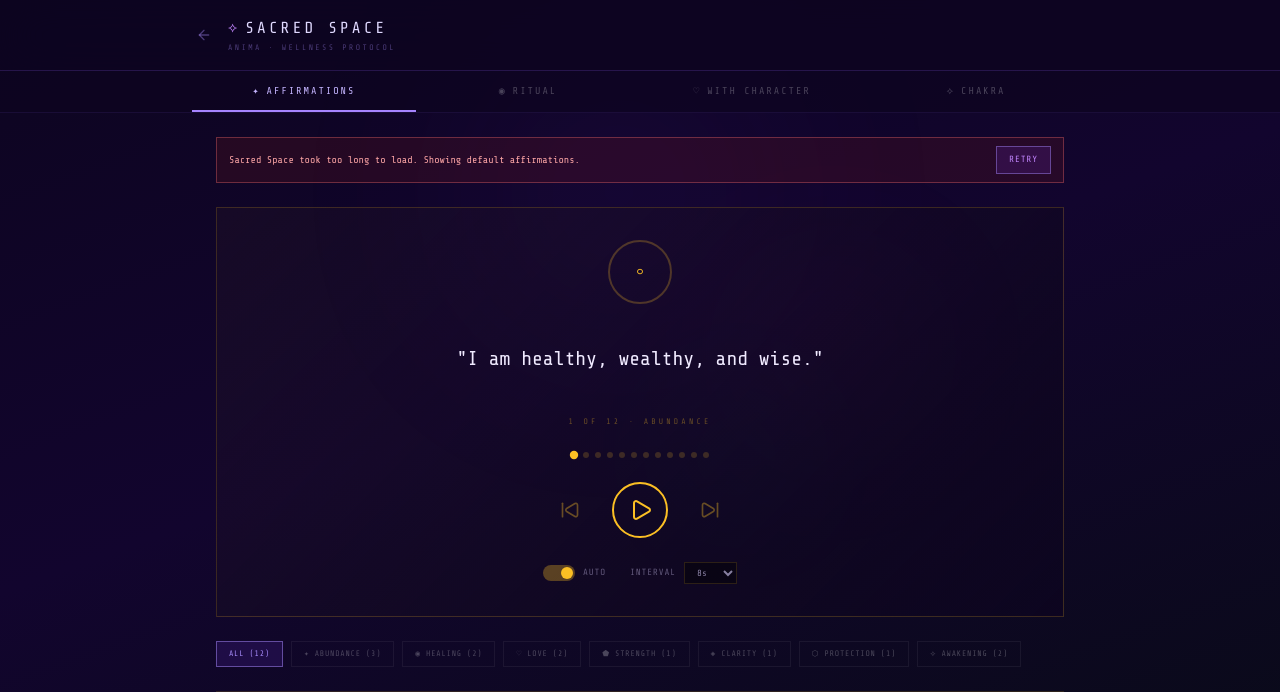
Test: Meditation affirmations › retries Sacred Space after a timeout instead of leaving sticky defaults
Check: the message reads "Sacred Space took too long to load. Showing default affirmations.", box [229,154,580,165]
Click the button "Retry": (1024, 160) [996,146,1051,174]
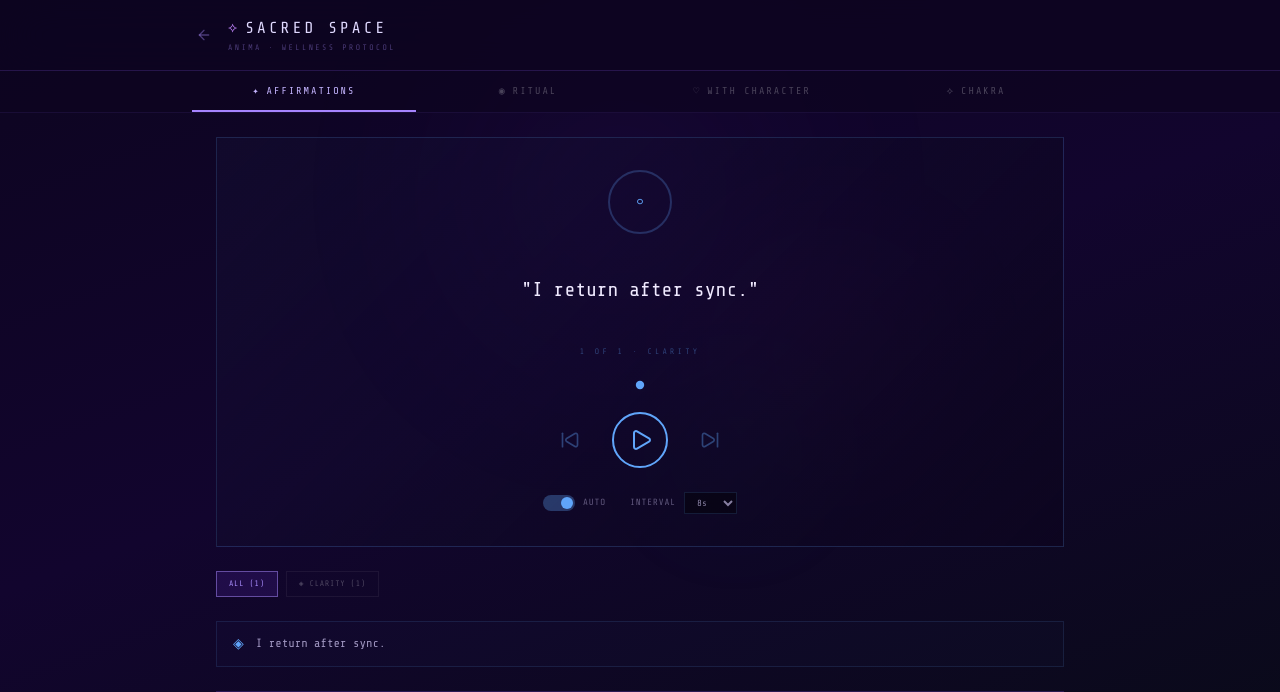
Check: the text "I return after sync." is shown, box [256,636,385,650]
Check: the message "Sacred Space took too long to load. Showing default affirmations." is gone
Check: the text "Sacred Space took too long to load. Showing default affirmations." is gone
